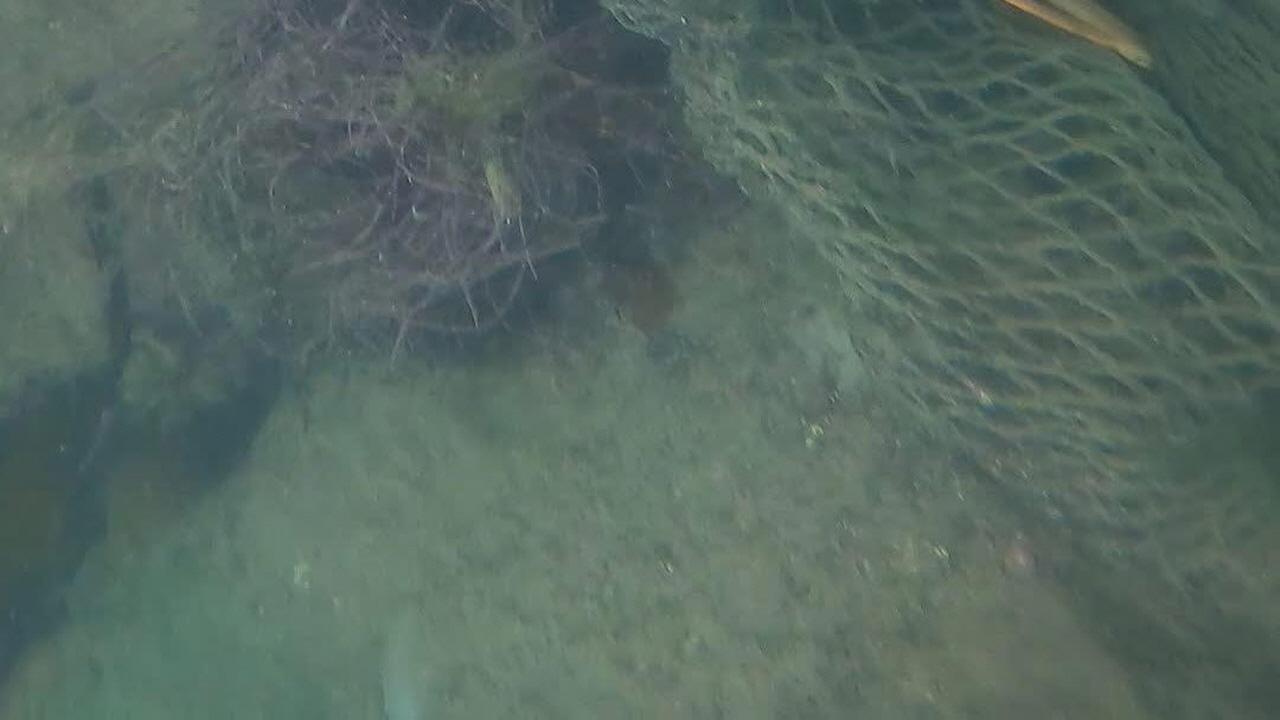fish net: (604, 0, 1280, 642)
